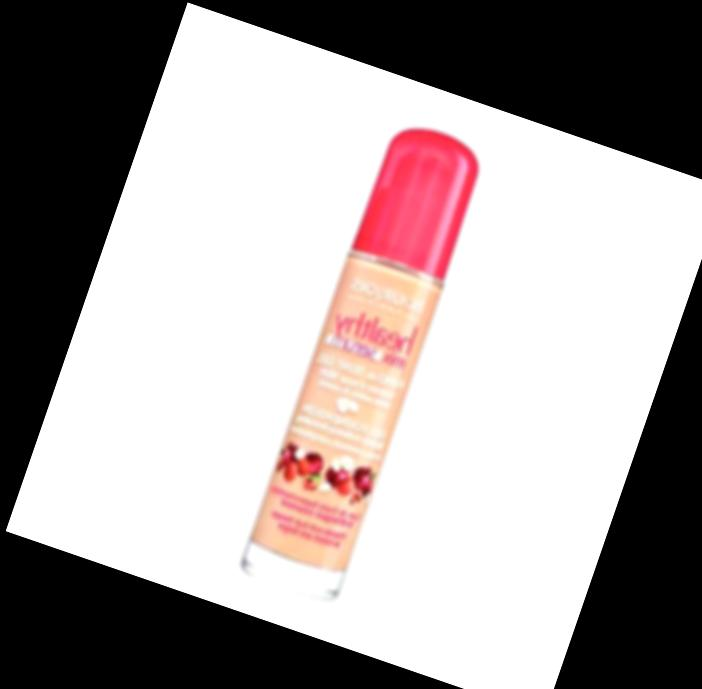cosmetic: (238, 116, 494, 602)
